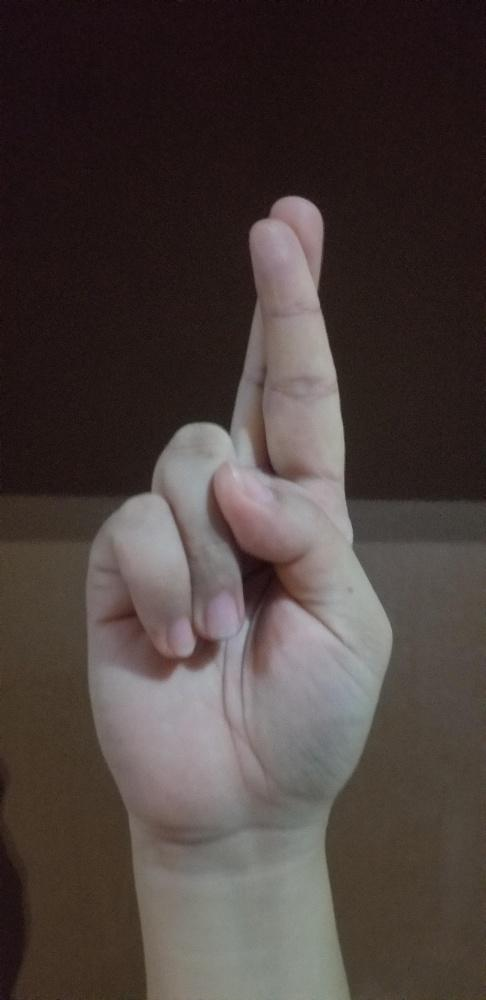r: (82, 194, 396, 834)
